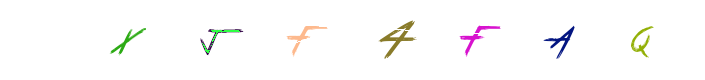4: (358, 0, 438, 80)
A: (436, 0, 516, 80)
F: (316, 0, 396, 80), (430, 0, 510, 80)
J: (311, 0, 391, 80)
Q: (446, 0, 526, 80)
X: (122, 0, 202, 80)
